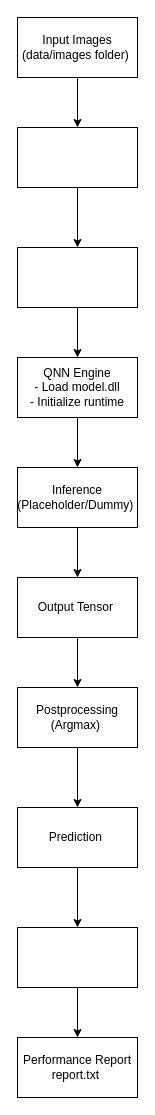
Image size: 155x1115. Some labels were removed from this diagram. Here are the shapes that lost their labels. From the top down, the centre of each, then its label:
At (x=77, y=157): "Preprocessing (OpenCV) - Resize 32x32 - Normalize".
At (x=77, y=277): "Tensor Conversion (HWC → CHW)".
At (x=77, y=957): "Accuracy Evaluation (via --accuracy flag)".
